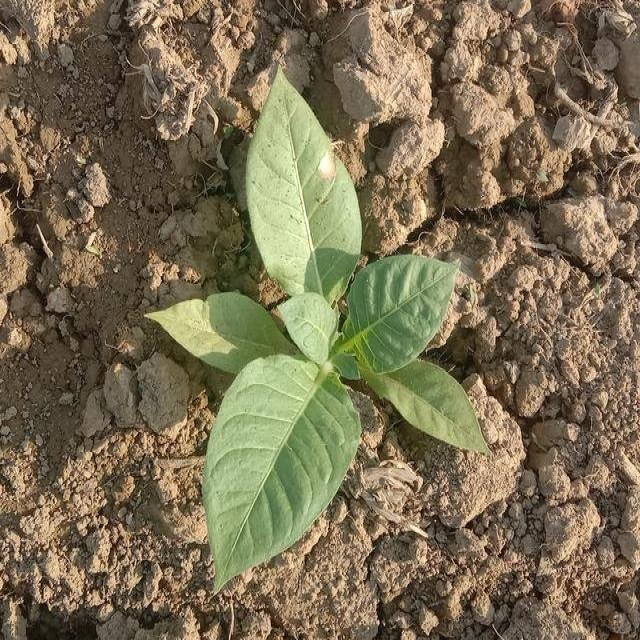crop: (140, 58, 492, 603)
